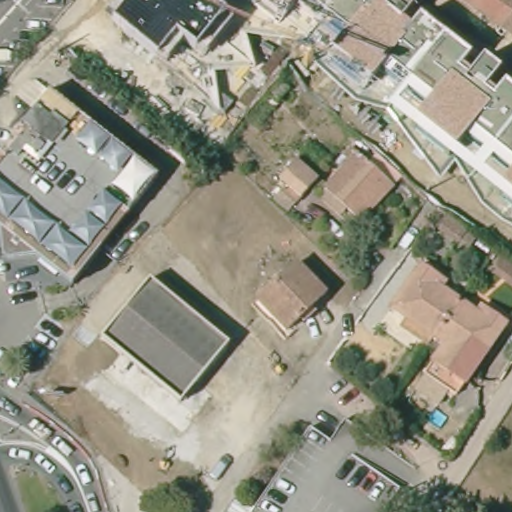pool: (426, 402, 451, 431)
